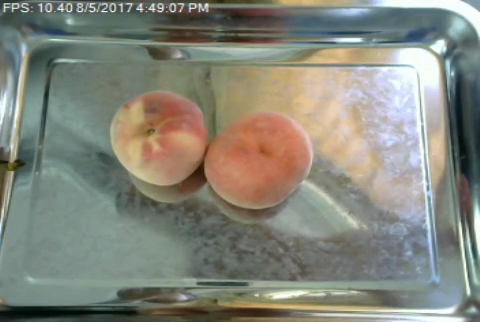Peach: (204, 111, 314, 209), (109, 88, 209, 186)
